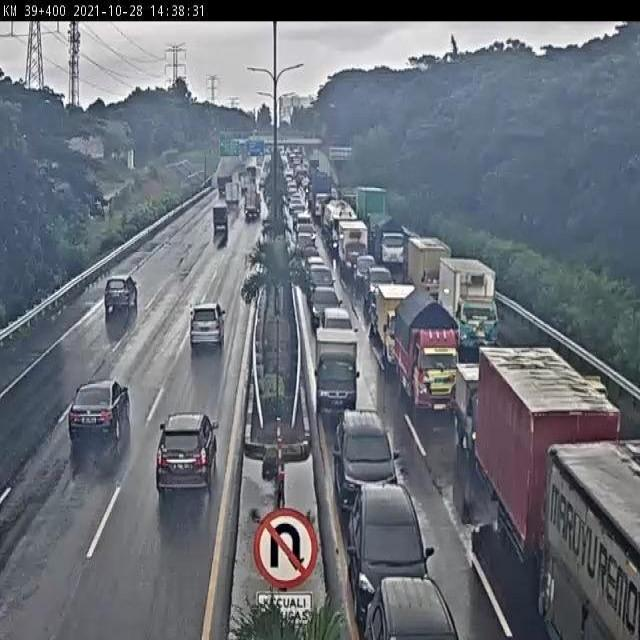big truck: (488, 344, 622, 560), (401, 290, 460, 426), (441, 256, 503, 355), (378, 281, 413, 367), (409, 237, 453, 300)
car: (343, 489, 433, 594), (155, 414, 224, 502), (336, 409, 391, 504), (69, 376, 132, 444), (185, 299, 228, 353), (95, 276, 146, 321), (313, 300, 358, 339)
small truck: (312, 327, 367, 416), (451, 360, 487, 463)
